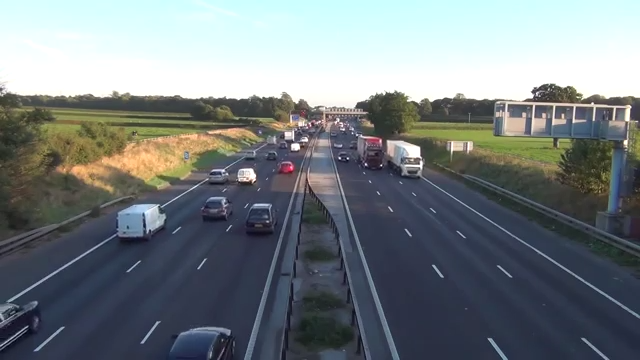car: (0, 293, 48, 357), (164, 318, 237, 360), (195, 190, 238, 227), (242, 198, 279, 239), (204, 162, 232, 186), (275, 158, 299, 177), (333, 146, 353, 166), (264, 145, 280, 166), (241, 144, 257, 162), (330, 138, 344, 151)
truck: (384, 136, 425, 181), (353, 130, 389, 174)
van: (109, 197, 172, 241), (232, 165, 258, 186)
